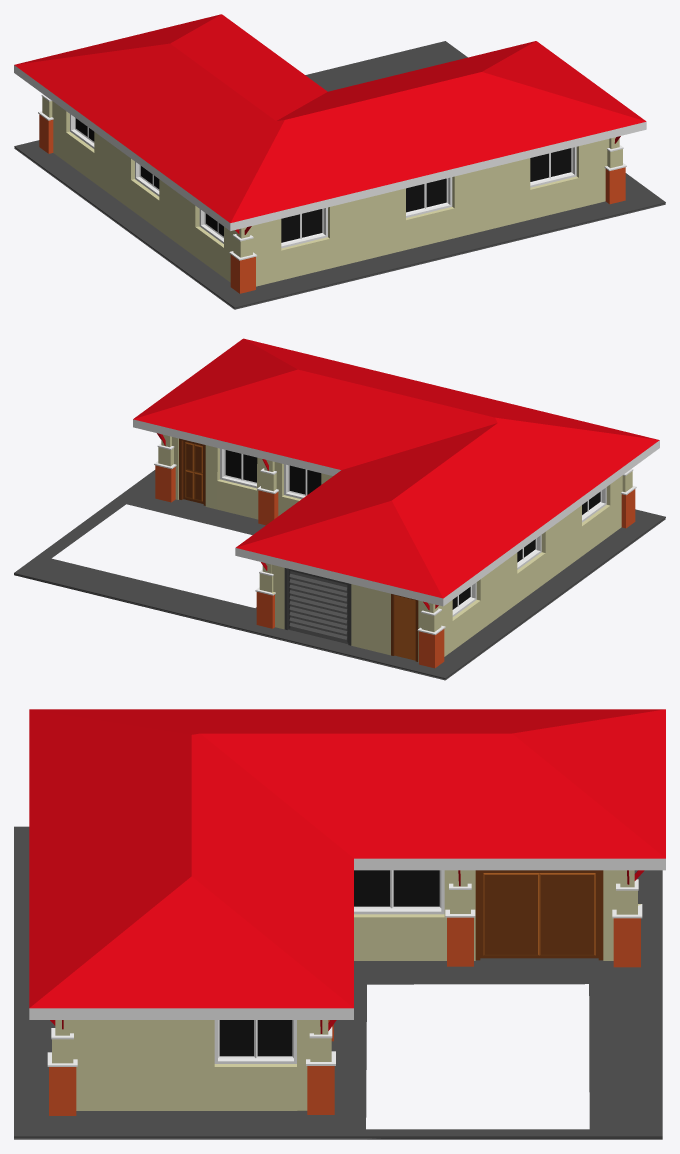
The model's file is kindledNest.fbx.
The picture shows the model from 3 angles, top to bottom: view 1: azimuth 30°, elevation 25°; view 2: azimuth 150°, elevation 25°; view 3: azimuth 270°, elevation 25°; orthographic projection. The views are drawn at different scales.
Parts seen in each view (by area): view 1: building_001, Cube.013, building_001.009, building_001.007, Cube.012; view 2: building_001, Cube.013, building_001.007, building_001.009, Cube.012; view 3: building_001, Cube.013, building_001.007, building_001.009, Cube.012.
Part boxes in pixels (x1,y1,x2,y2): building_001: (14, 14, 646, 286); Cube.013: (14, 41, 665, 308); building_001.009: (14, 65, 646, 230); building_001.007: (38, 94, 626, 293); Cube.012: (14, 148, 665, 309); building_001: (133, 338, 659, 662); Cube.013: (14, 470, 665, 679); building_001.007: (154, 433, 636, 668); building_001.009: (133, 419, 659, 606); Cube.012: (14, 501, 665, 680); building_001: (29, 709, 665, 1110); Cube.013: (14, 826, 662, 1137); building_001.007: (47, 870, 644, 1115); building_001.009: (29, 858, 665, 1019); Cube.012: (14, 980, 662, 1139).
Bounding box in the file's own units: 1586 × 417 × 1411.
